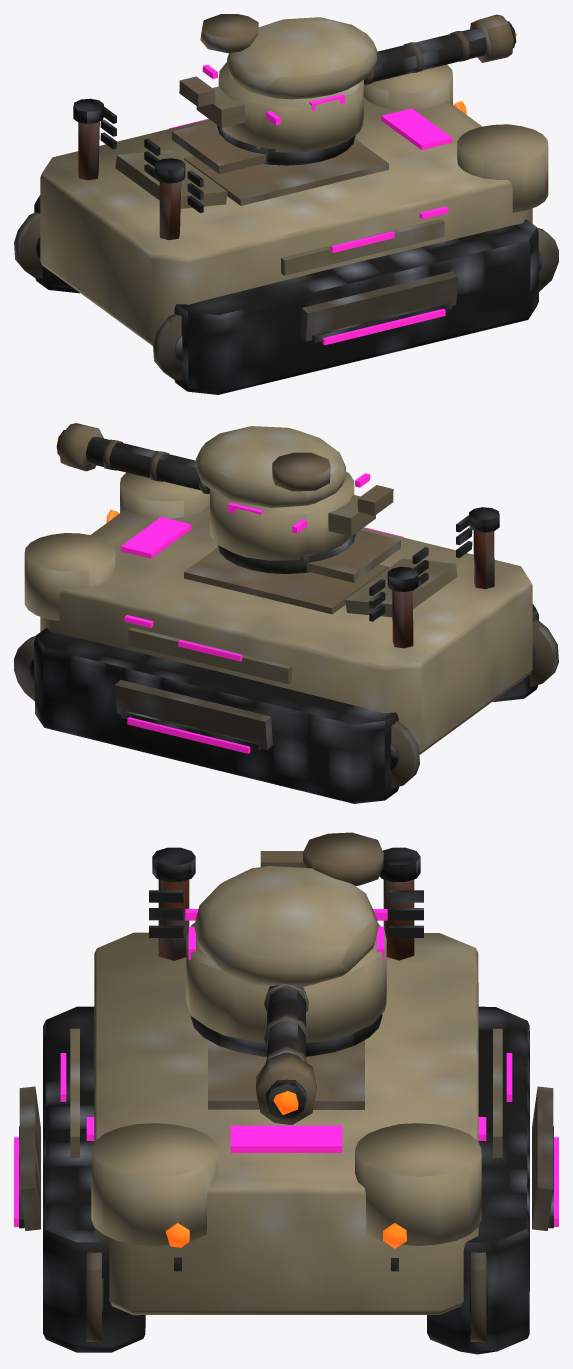
File: atreides_tank.glb
3 views of the same model, one above another, from view 1: azimuth 30°, elevation 25°; view 2: azimuth 150°, elevation 25°; view 3: azimuth 270°, elevation 25° (orthographic). The views are drawn at different scales.
Parts seen in each view (by area): view 1: Sandwar3D; view 2: Sandwar3D; view 3: Sandwar3D.
Part boxes in pixels (x1=…): Sandwar3D: x1=14, y1=14, x2=558, y2=394; Sandwar3D: x1=14, y1=423, x2=558, y2=803; Sandwar3D: x1=14, y1=832, x2=558, y2=1354.
Bounding box in the file's own units: 1.91 × 1.13 × 1.53.
11 materials, 10 textured.
